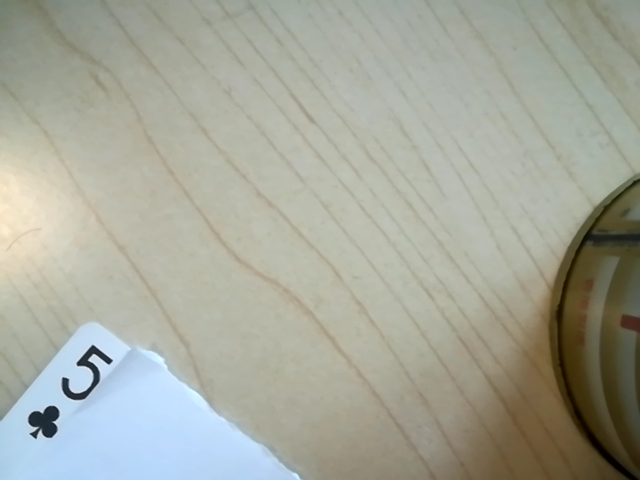mh 5: (21, 339, 127, 442)
